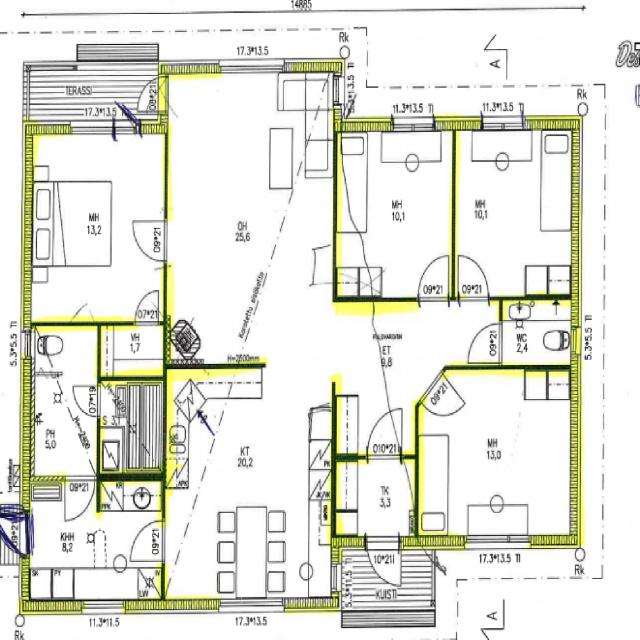door: (420, 372, 466, 432), (365, 535, 400, 597), (368, 410, 401, 460), (133, 219, 168, 262), (134, 521, 168, 562), (469, 322, 502, 363), (114, 86, 140, 134), (460, 258, 489, 301), (66, 477, 94, 521), (0, 514, 30, 555), (421, 258, 449, 301), (134, 285, 160, 326), (68, 289, 92, 326), (74, 385, 101, 417)
